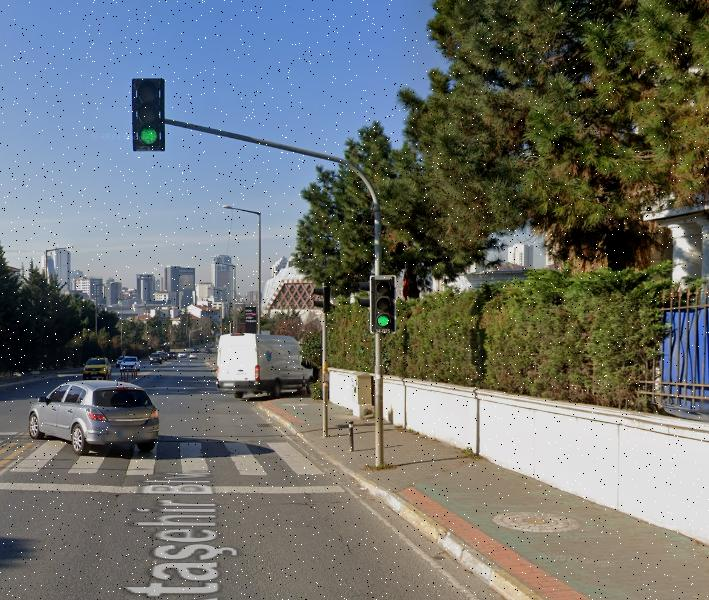greenlight: (130, 78, 164, 151), (370, 274, 395, 335)
